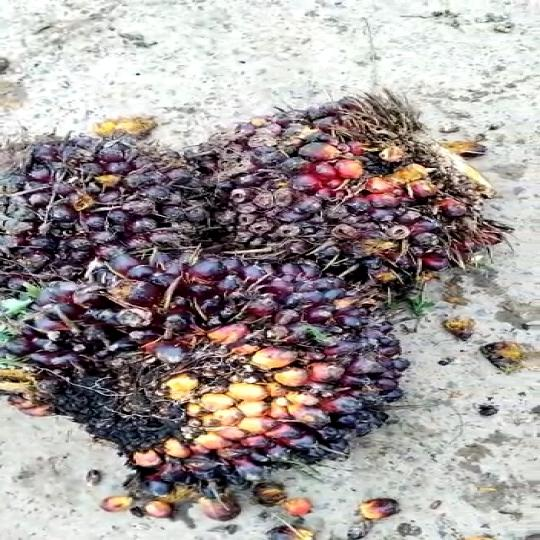kurang masak: (0, 260, 411, 499), (191, 86, 516, 280), (0, 129, 199, 280)
